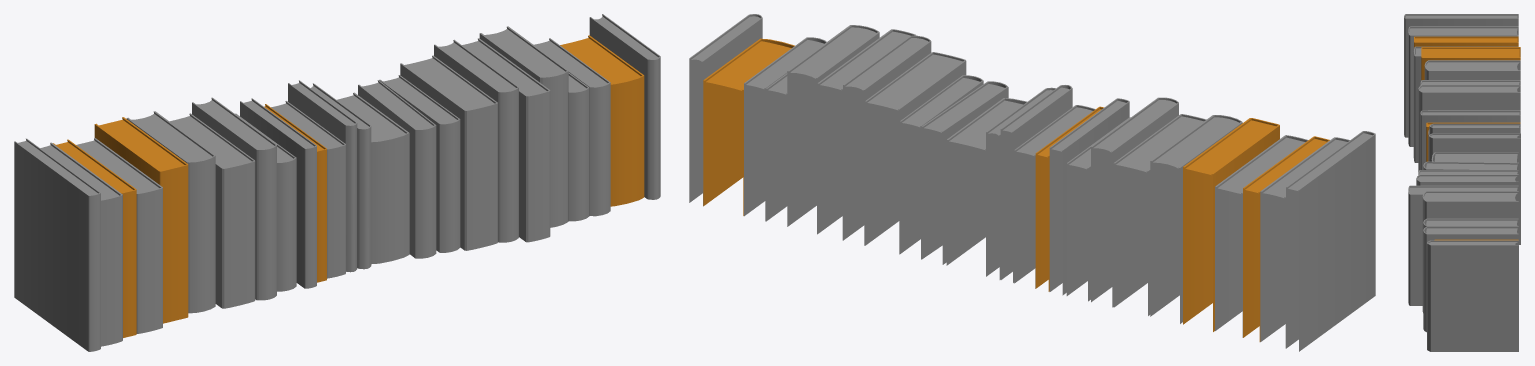
The model's file is SM_BookSet_01_B.FBX.
3 renders of one model, left to right at view 1: azimuth 30°, elevation 25°; view 2: azimuth 150°, elevation 25°; view 3: azimuth 270°, elevation 25°, orthographic. The views are drawn at different scales.
Visible parts, largest first — view 1: SM_BookSet_01_B; view 2: SM_BookSet_01_B; view 3: SM_BookSet_01_B.
Boxes of the visible parts, x1,y1,x2,y2 form: SM_BookSet_01_B: [14, 14, 660, 351]; SM_BookSet_01_B: [689, 14, 1375, 351]; SM_BookSet_01_B: [1404, 14, 1520, 351].
Size of what is drawn, in the model's own units: 114 by 29 by 25.79.
